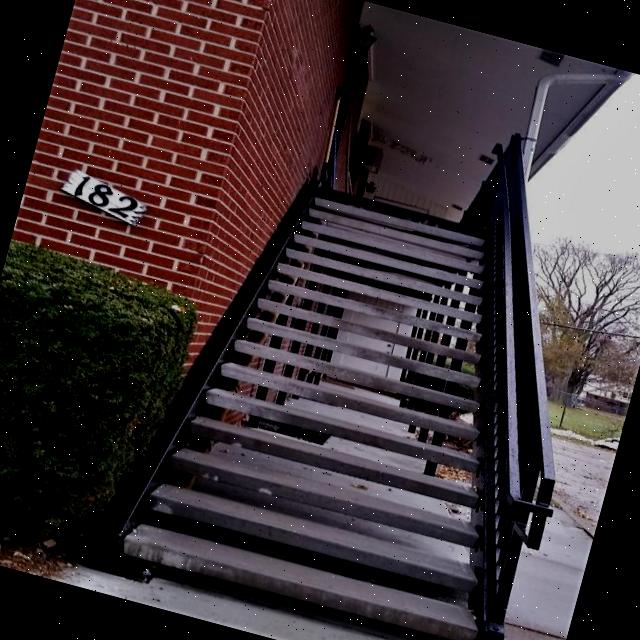stairs: (113, 154, 589, 640)
